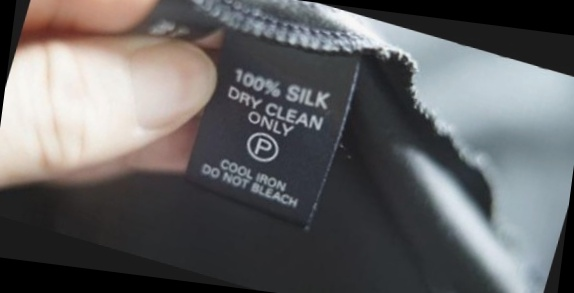dry_clean_any_solvent_except_trichloroethylene: (243, 127, 285, 166)
